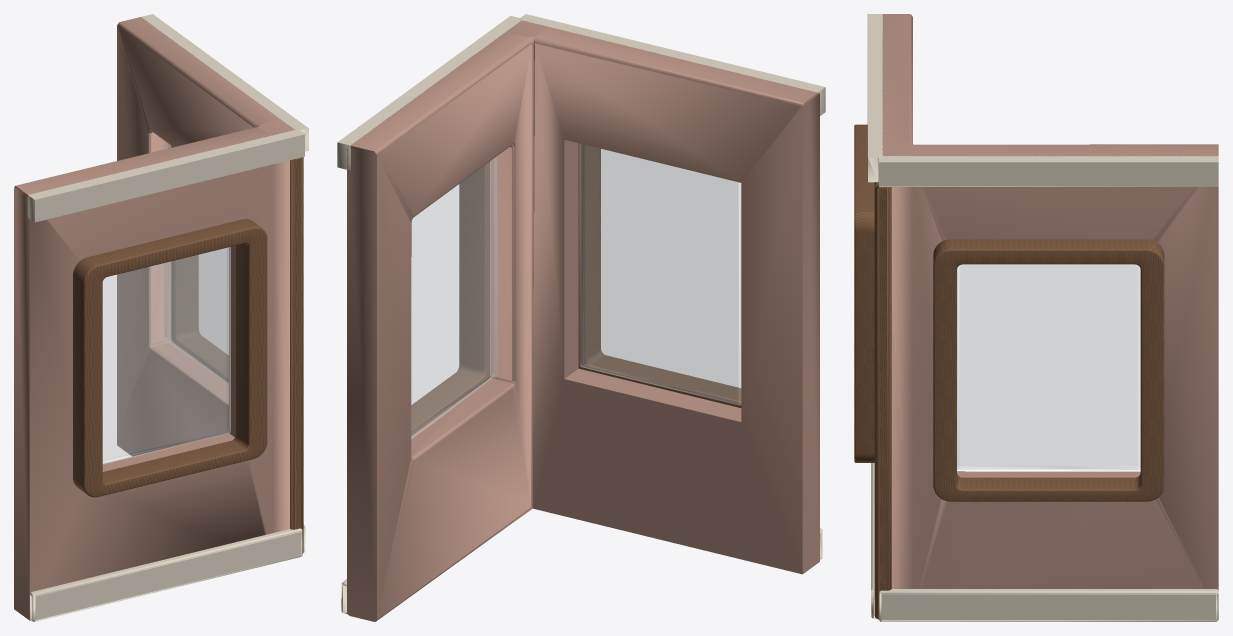
File: CornerWindow90.glb
3 renders of one model, left to right at view 1: azimuth 30°, elevation 25°; view 2: azimuth 150°, elevation 25°; view 3: azimuth 270°, elevation 25°, orthographic. The views are drawn at different scales.
Parts seen in each view (by area): view 1: PBK_substrate.001, PBK_glass.001, PBK_Continuous_Frame_Brick_Window.003, PBK_floor_band.001, PBK_base_trim.001, PBK_glass.003, PBK_ShopCornerPost90.021, PBK_Continuous_Frame_Brick_Window.004; view 2: PBK_substrate.001, PBK_glass.001, PBK_glass.003, PBK_Continuous_Frame_Brick_Window.004, PBK_Continuous_Frame_Brick_Window.003, PBK_floor_band.001; view 3: PBK_substrate.001, PBK_glass.003, PBK_Continuous_Frame_Brick_Window.004, PBK_floor_band.001, PBK_base_trim.003, PBK_ShopCornerPost90.021, PBK_Continuous_Frame_Brick_Window.003, PBK_base_trim.001.
Boxes of the visible parts, x1,y1,x2,y2 form: PBK_substrate.001: (14, 17, 294, 620); PBK_glass.001: (103, 247, 230, 464); PBK_Continuous_Frame_Brick_Window.003: (73, 219, 267, 497); PBK_floor_band.001: (27, 14, 308, 222); PBK_base_trim.001: (29, 528, 302, 621); PBK_glass.003: (164, 141, 228, 385); PBK_ShopCornerPost90.021: (290, 157, 303, 553); PBK_Continuous_Frame_Brick_Window.004: (171, 146, 228, 382); PBK_substrate.001: (347, 20, 819, 621); PBK_glass.001: (579, 144, 740, 405); PBK_glass.003: (411, 156, 497, 438); PBK_Continuous_Frame_Brick_Window.004: (411, 161, 489, 435); PBK_Continuous_Frame_Brick_Window.003: (578, 143, 741, 407); PBK_floor_band.001: (337, 14, 825, 170); PBK_substrate.001: (882, 14, 1218, 590); PBK_glass.003: (957, 264, 1140, 469); PBK_Continuous_Frame_Brick_Window.004: (933, 239, 1164, 501); PBK_floor_band.001: (867, 14, 1218, 186); PBK_base_trim.003: (879, 589, 1218, 621); PBK_ShopCornerPost90.021: (874, 182, 891, 619); PBK_Continuous_Frame_Brick_Window.003: (854, 124, 874, 462); PBK_base_trim.001: (871, 463, 875, 618).
Size of the model in its own units: 2.15 by 3 by 2.14.
5 materials, 2 textured.
